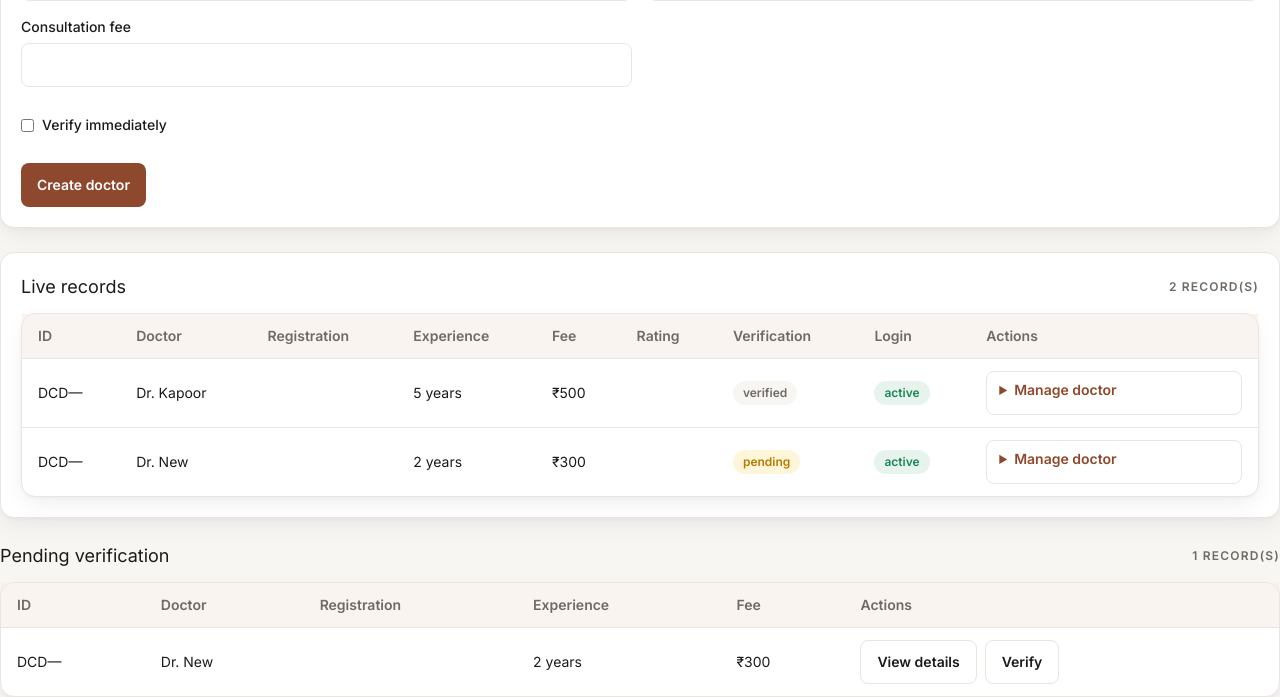
DoctorVerification › verifies a pending doctor, moving them out of the pending queue
This screenshot has width=1280, height=697.
(page scrolled)
Check: the text "Dr. New" below "Dr. Kapoor" is shown, box [136,453,188,470]
What coordinates should you click on to do the following:
click the button "Verify"
I would click on:
 (1022, 662)
Its box is [985,640,1059,684].
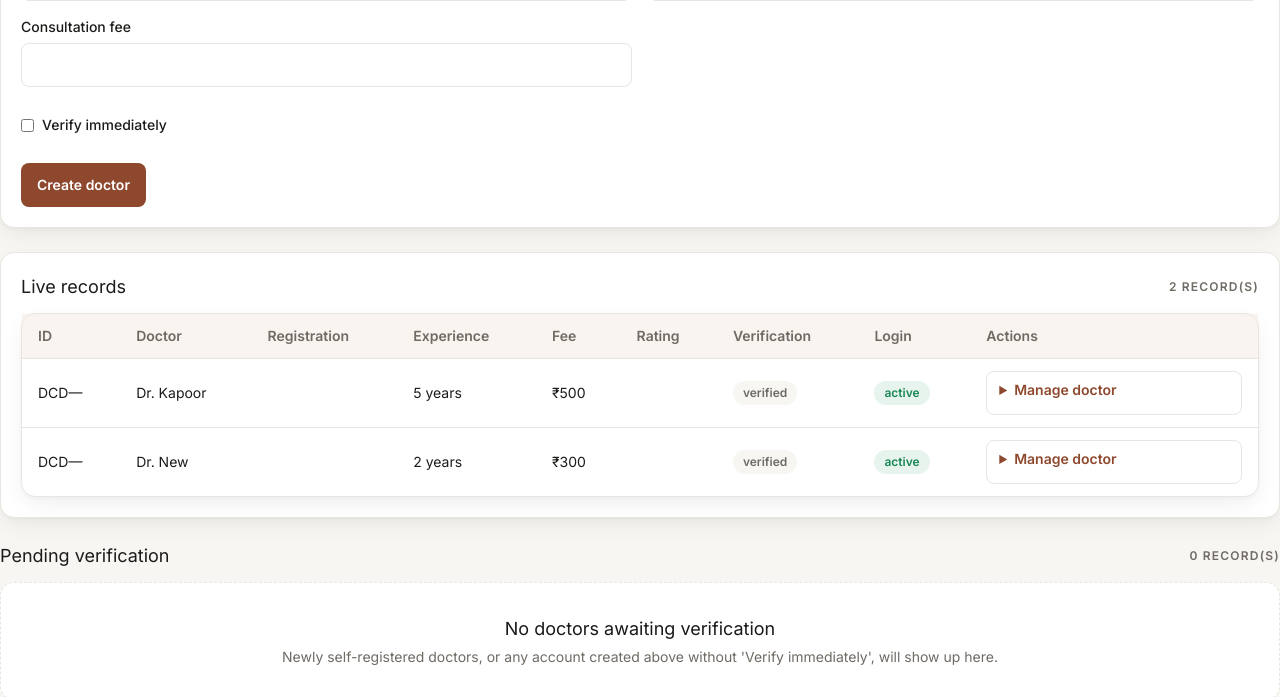
Check: the text "No doctors awaiting verification" is shown, box [505,618,775,639]
